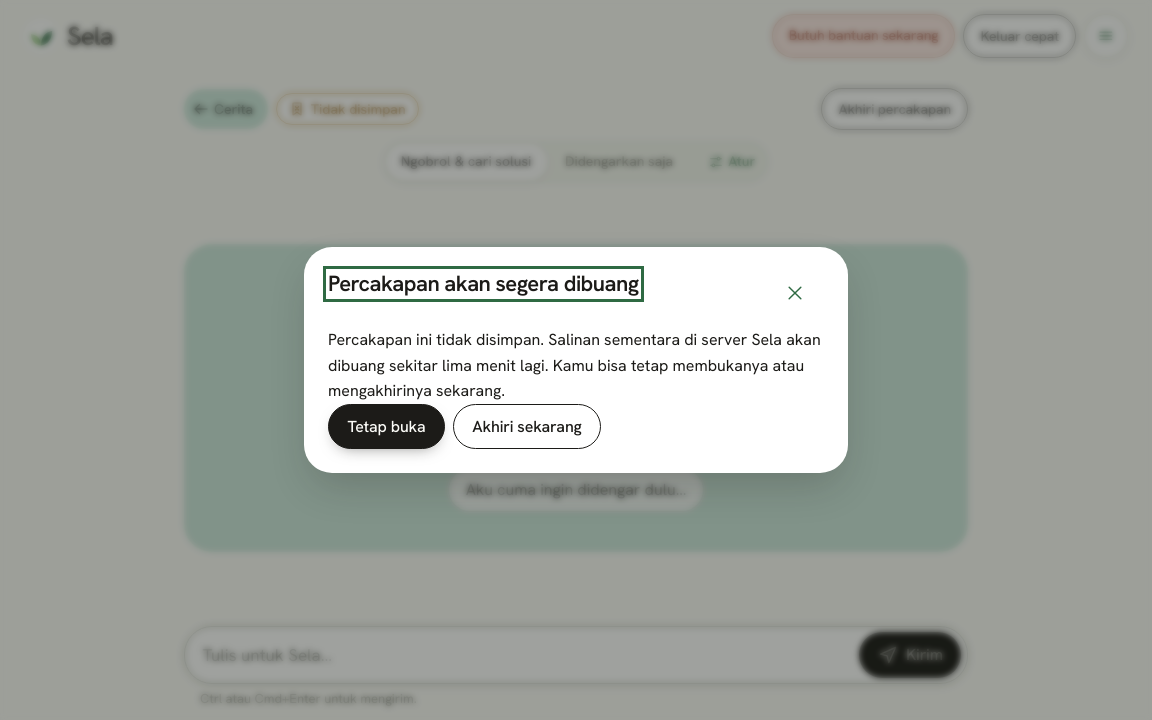
Test: home, notes and conversations › warns before an unsaved hold expires and refreshes it
Expected: the button "Akhiri sekarang" is shown, left=453, top=404, right=601, bottom=449
Click the button "Tetap buka": (386, 426) left=328, top=404, right=445, bottom=449
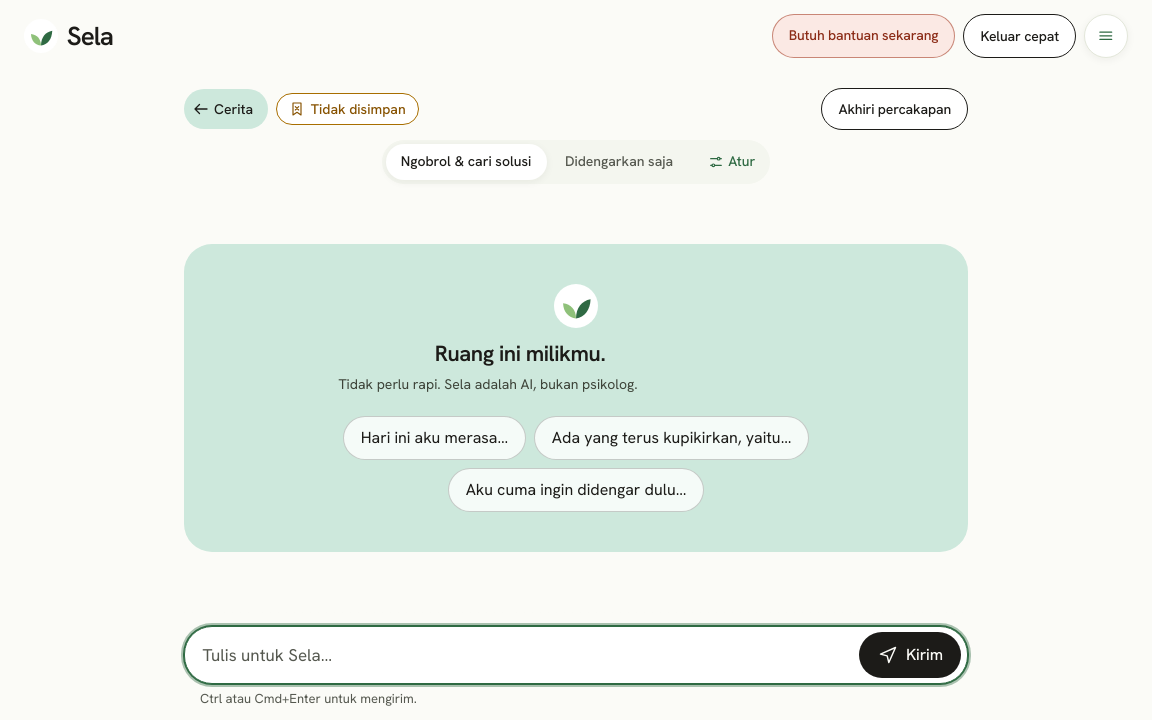
Expected: the dialog is gone
